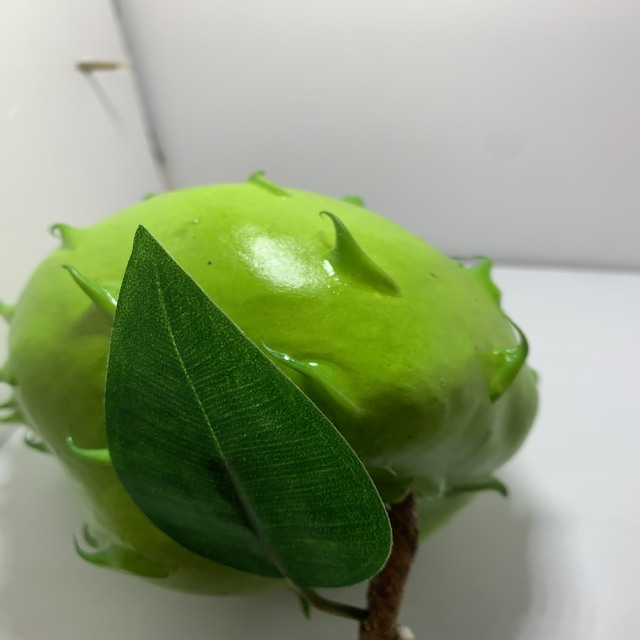Man cau: (0, 166, 551, 617)
